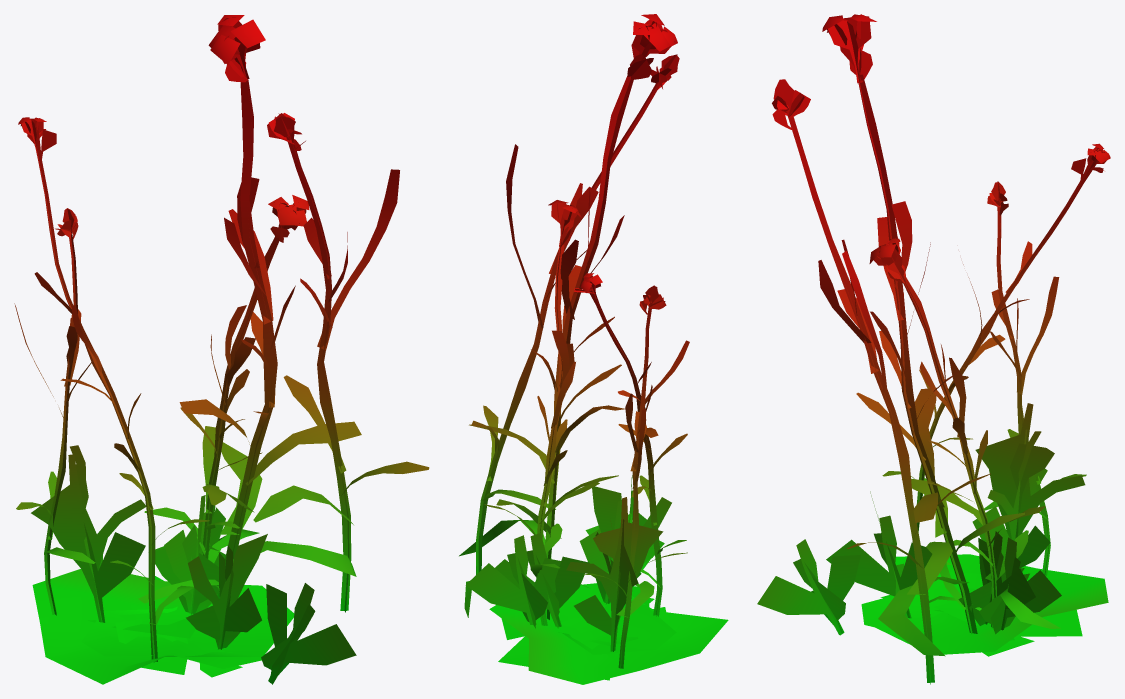
Rendered from Var5_LOD0.fbx.
The picture shows the model from 3 angles, left to right: view 1: azimuth 30°, elevation 25°; view 2: azimuth 150°, elevation 25°; view 3: azimuth 270°, elevation 25°; orthographic projection. The views are drawn at different scales.
Visible parts, largest first — view 1: _ce3b_Var5_LOD0; view 2: _ce3b_Var5_LOD0; view 3: _ce3b_Var5_LOD0.
Part boxes in pixels (x1,y1,x2,y2): _ce3b_Var5_LOD0: (14, 15, 429, 684); _ce3b_Var5_LOD0: (459, 14, 728, 684); _ce3b_Var5_LOD0: (757, 14, 1110, 684).
Bounding box in the file's own units: 22.03 × 43.25 × 22.82.
